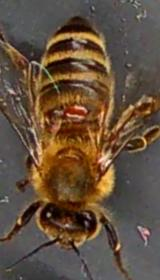varroa_mite: (56, 98, 94, 121)
